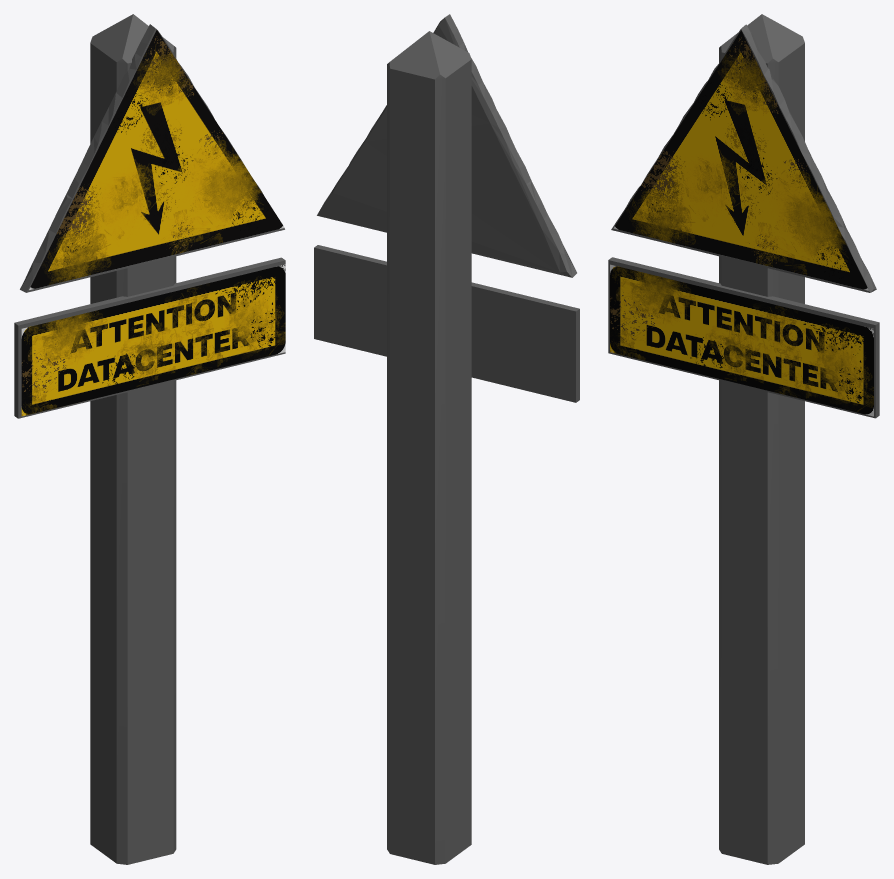
The model's file is DataCenterPanel.glb.
3 views of the same model, side by side, from view 1: azimuth 30°, elevation 25°; view 2: azimuth 150°, elevation 25°; view 3: azimuth 330°, elevation 25° (orthographic). The views are drawn at different scales.
Parts seen in each view (by area): view 1: Polygone; view 2: Polygone; view 3: Polygone.
Boxes of the visible parts, x1,y1,x2,y2 form: Polygone: (14,14,285,864); Polygone: (314,14,579,864); Polygone: (608,14,879,864).
Bounding box in the file's own units: 0.6719 × 2 × 0.1713.
3 materials, 2 textured.
